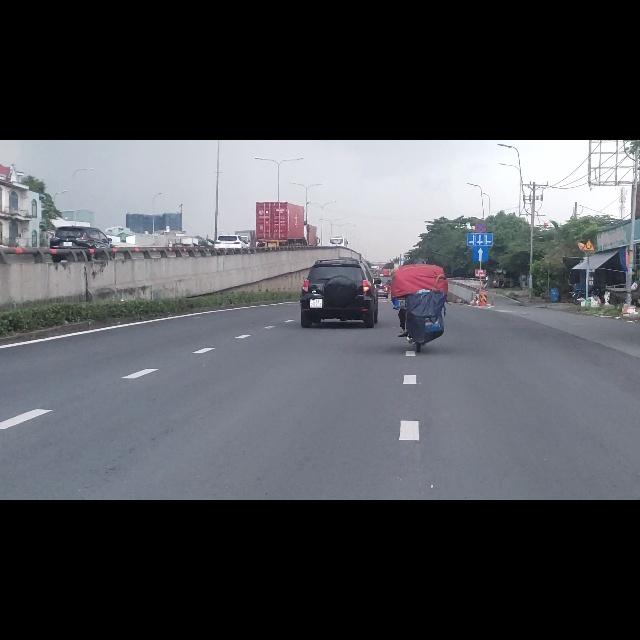bien_chi_dan: (473, 187, 488, 215), (583, 176, 595, 197), (475, 145, 486, 165)
